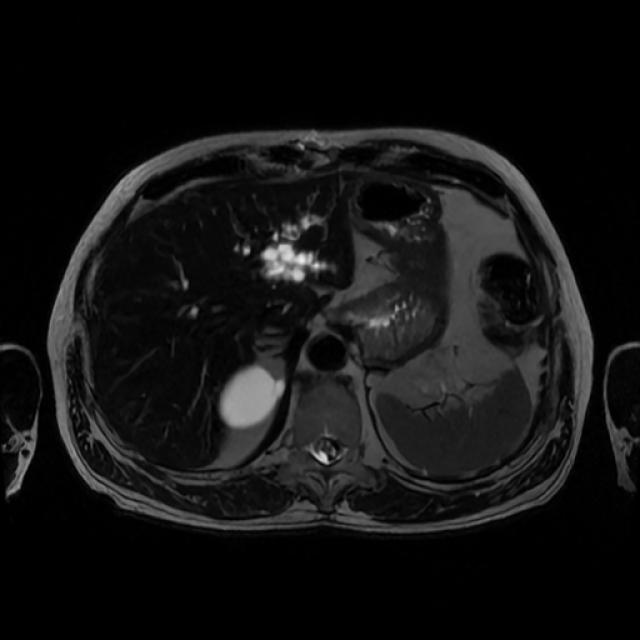sag: (219, 365, 286, 430)
